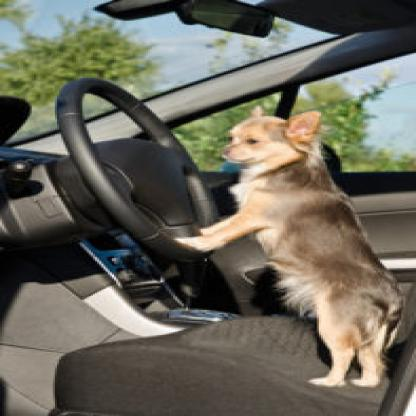dog: (170, 104, 402, 388)
